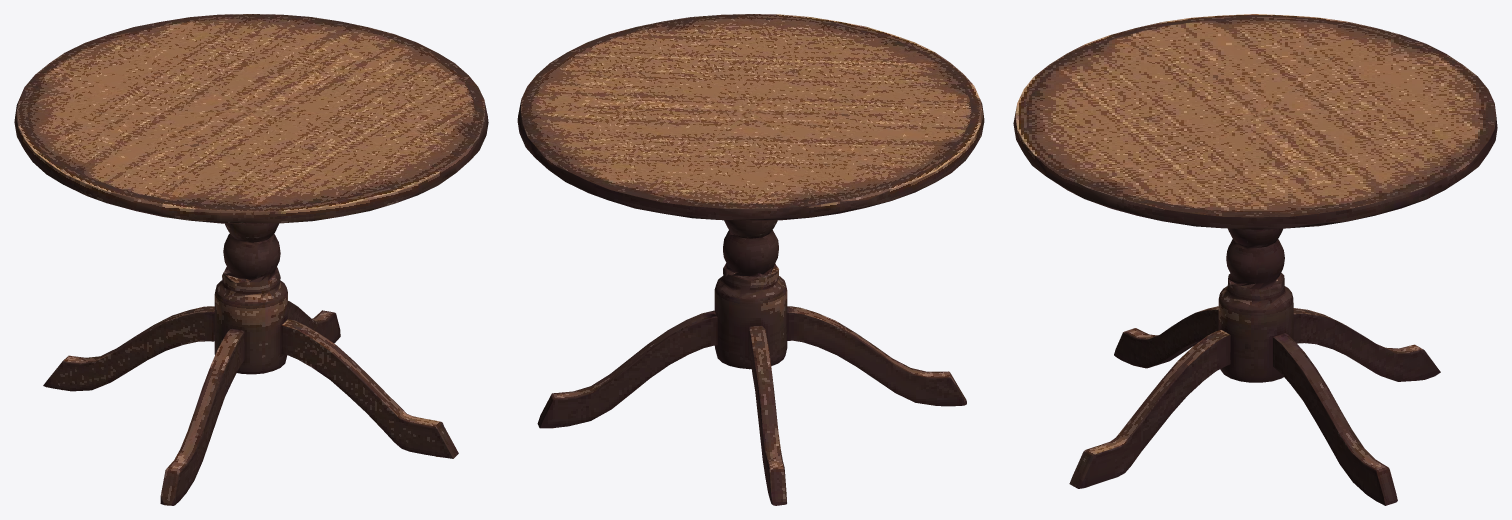
Rendered from round_table.glb.
3 renders of one model, left to right at view 1: azimuth 30°, elevation 25°; view 2: azimuth 150°, elevation 25°; view 3: azimuth 270°, elevation 25°, orthographic. The views are drawn at different scales.
Parts seen in each view (by area): view 1: round_table_src; view 2: round_table_src; view 3: round_table_src.
Part boxes in pixels (<box>): round_table_src: <box>14,14,488,505</box>; round_table_src: <box>517,14,984,505</box>; round_table_src: <box>1013,14,1497,505</box>.
Bounding box in the file's own units: 1.3 × 0.9375 × 1.3.
1 material, 1 textured.
